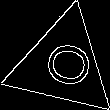O_W: (33, 38, 92, 92)
